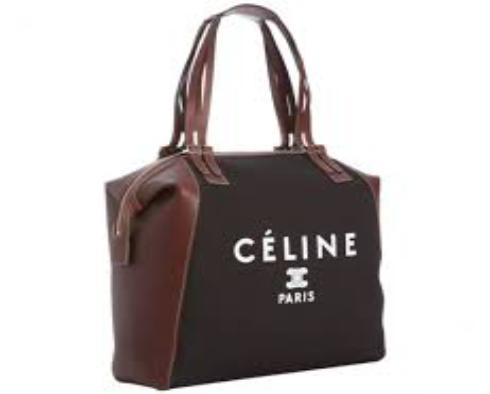CELINE: (218, 222, 366, 265)
